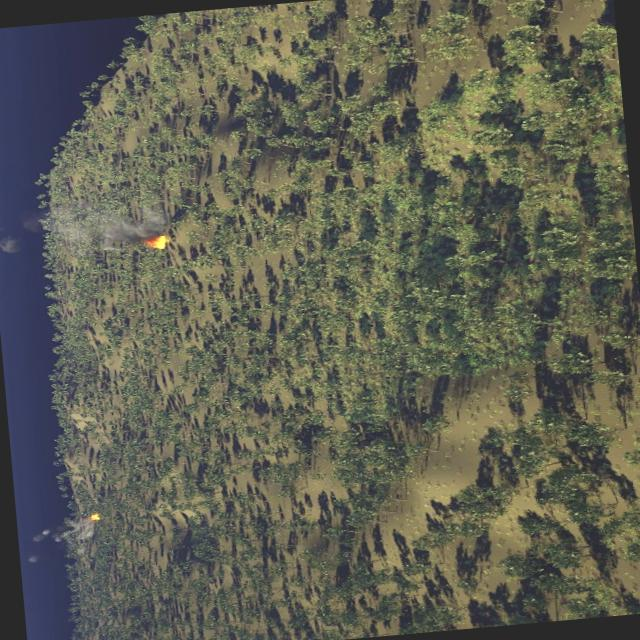fire: (149, 232, 169, 246), (89, 512, 100, 520)
smoke: (0, 184, 171, 258), (21, 513, 99, 563)
